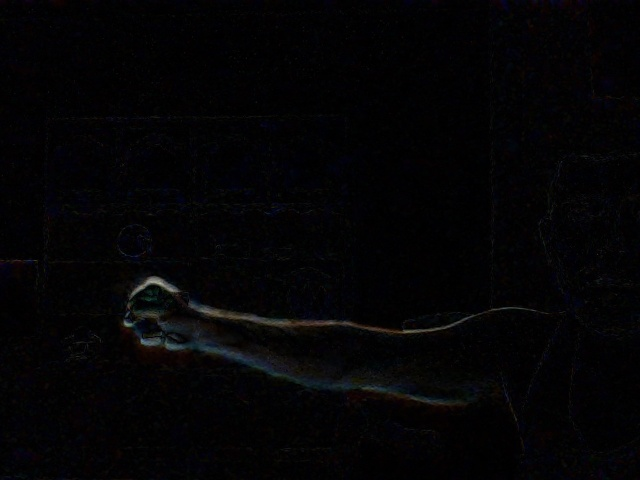hand_fi: (115, 275, 195, 354)
